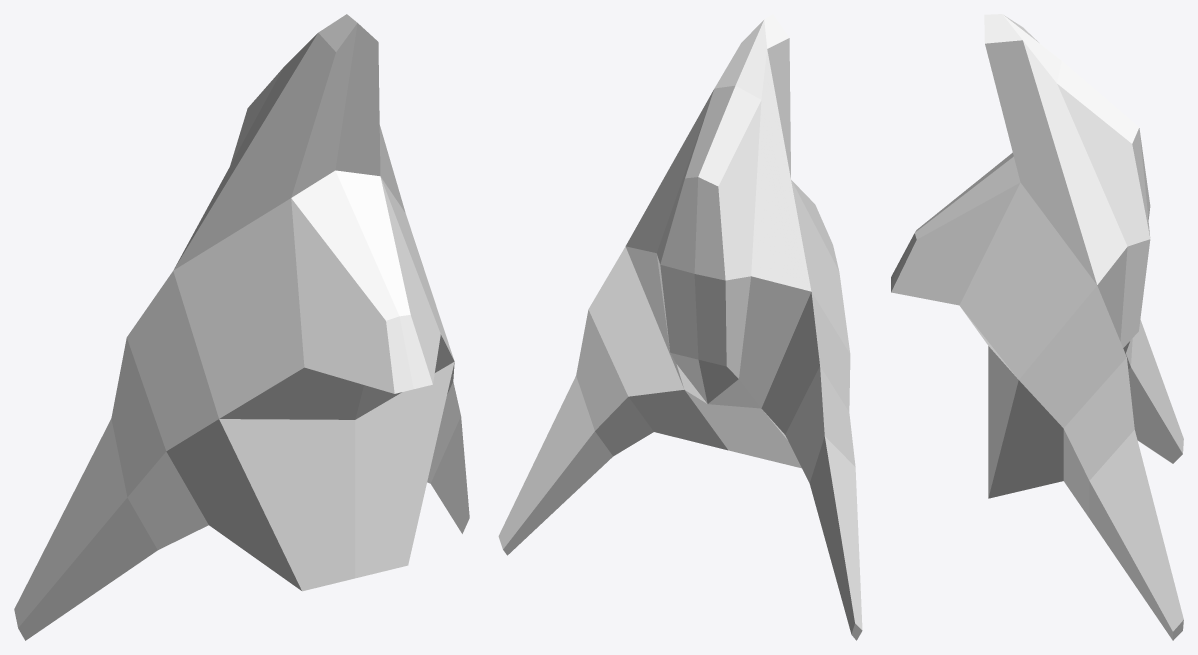
File: head_12.fbx
3 views of the same model, side by side, from view 1: azimuth 30°, elevation 25°; view 2: azimuth 150°, elevation 25°; view 3: azimuth 270°, elevation 25° (orthographic). The views are drawn at different scales.
Parts seen in each view (by area): view 1: Cube.135; view 2: Cube.135; view 3: Cube.135.
Part boxes in pixels (box(x1,y1,x2,y2)): Cube.135: box(14, 14, 469, 640); Cube.135: box(498, 14, 862, 640); Cube.135: box(891, 14, 1183, 640).
Bounding box in the file's own units: 31.65 × 43.45 × 21.41.
